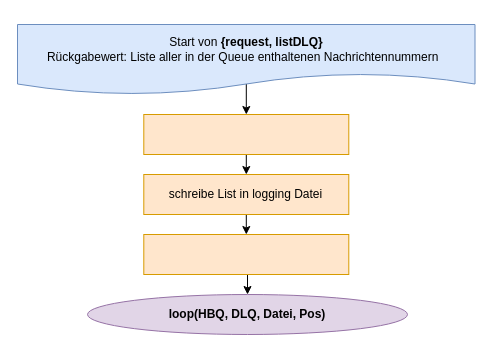
Image size: 493x352. Some labels were removed from this diagram. The shapes that lost their labels are listed below. From the top down, each one's box as (x1, y1, x2, y2) in pixels, then its label:
(143, 114, 349, 154): List = dlq:listDLQ(DLQ)
(143, 234, 349, 274): From ! {reply, ok}
